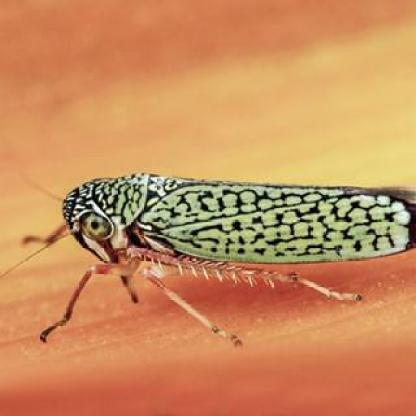green-leafhopper: (48, 175, 408, 328)
